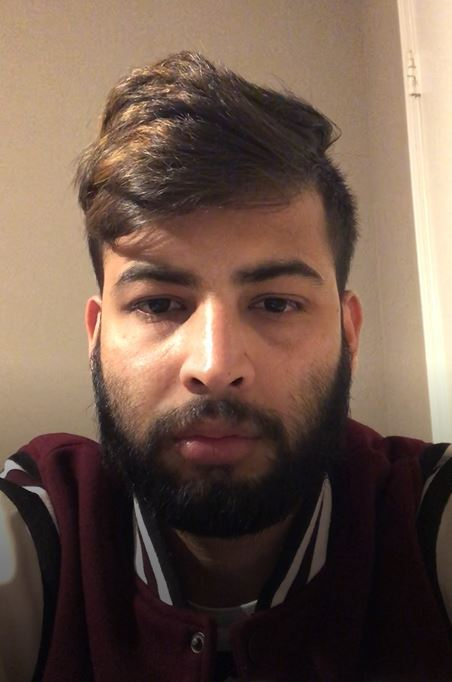Not Sleeping: (109, 274, 339, 336)
